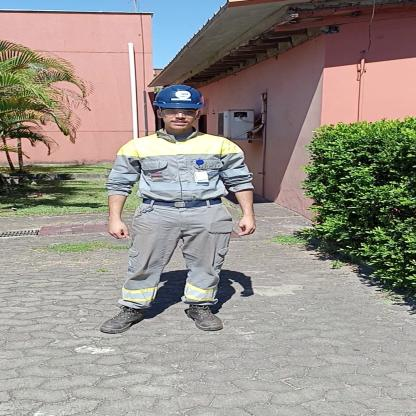Capacete: (153, 82, 203, 107)
